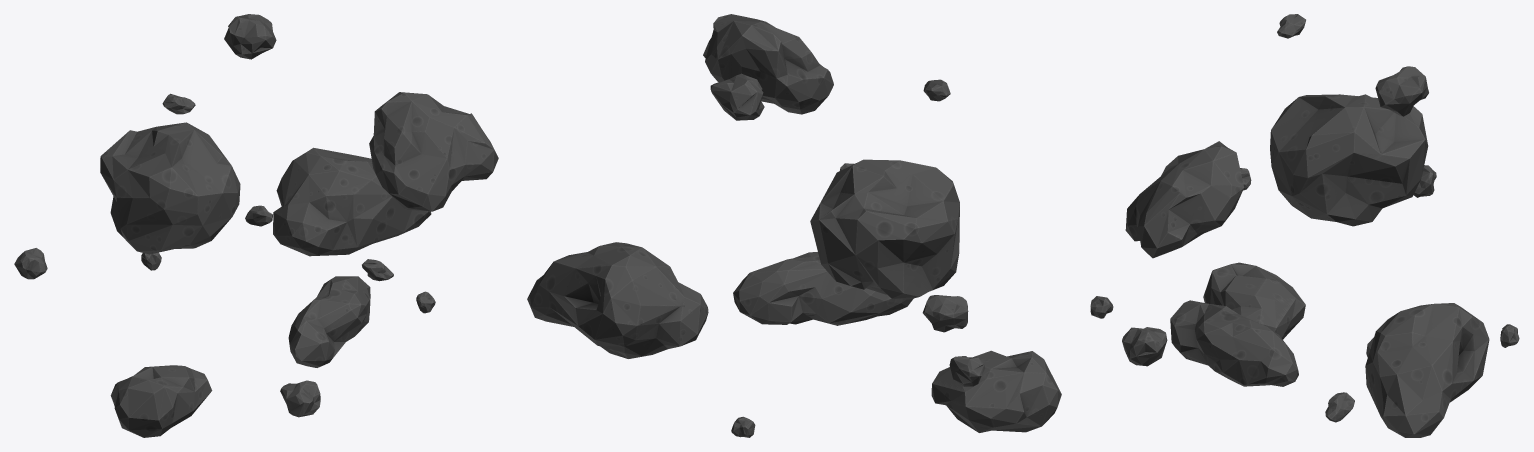
Rendered from asteroids.glb.
3 renders of one model, left to right at view 1: azimuth 30°, elevation 25°; view 2: azimuth 150°, elevation 25°; view 3: azimuth 270°, elevation 25°, orthographic. The views are drawn at different scales.
Parts seen in each view (by area): view 1: Asteroid Big.002, Asteroid Big.001, Asteroid Big, Asteroid Big.003, Asteroid Big.004, Asteroid Small, Asteroid Small.007, Asteroid Small.002, Asteroid Small.001, Asteroid Small.005; view 2: Asteroid Big.002, Asteroid Big.001, Asteroid Big, Asteroid Big.004, Asteroid Big.003, Asteroid Small, Asteroid Small.007, Asteroid Small.002; view 3: Asteroid Big.002, Asteroid Big.001, Asteroid Big, Asteroid Big.004, Asteroid Big.003, Asteroid Small, Asteroid Small.007, Asteroid Small.005, Asteroid Small.001, Asteroid Small.002.
Boxes of the visible parts, x1,y1,x2,y2 form: Asteroid Big.002: (100, 122, 240, 254); Asteroid Big.001: (273, 147, 431, 256); Asteroid Big: (369, 92, 498, 211); Asteroid Big.003: (110, 365, 212, 437); Asteroid Big.004: (288, 276, 370, 367); Asteroid Small: (224, 14, 276, 59); Asteroid Small.007: (280, 380, 320, 417); Asteroid Small.002: (14, 248, 47, 279); Asteroid Small.001: (162, 93, 195, 114); Asteroid Small.005: (362, 259, 393, 281); Asteroid Big.002: (810, 159, 959, 299); Asteroid Big.001: (527, 242, 708, 358); Asteroid Big: (703, 14, 833, 114); Asteroid Big.004: (733, 252, 913, 325); Asteroid Big.003: (931, 350, 1061, 432); Asteroid Small: (710, 73, 764, 120); Asteroid Small.007: (922, 295, 968, 332); Asteroid Small.002: (949, 356, 985, 386); Asteroid Big.002: (1270, 94, 1428, 226); Asteroid Big.001: (1365, 303, 1489, 437); Asteroid Big: (1125, 141, 1243, 258); Asteroid Big.004: (1170, 300, 1298, 386); Asteroid Big.003: (1203, 262, 1305, 339); Asteroid Small: (1375, 66, 1428, 116); Asteroid Small.007: (1122, 327, 1167, 366); Asteroid Small.005: (1325, 392, 1354, 422); Asteroid Small.001: (1277, 14, 1305, 38); Asteroid Small.002: (1413, 165, 1436, 197).
Size of the model in its own units: 21.61 by 16.46 by 17.79.
Materials: 1 (1 with a texture image).
